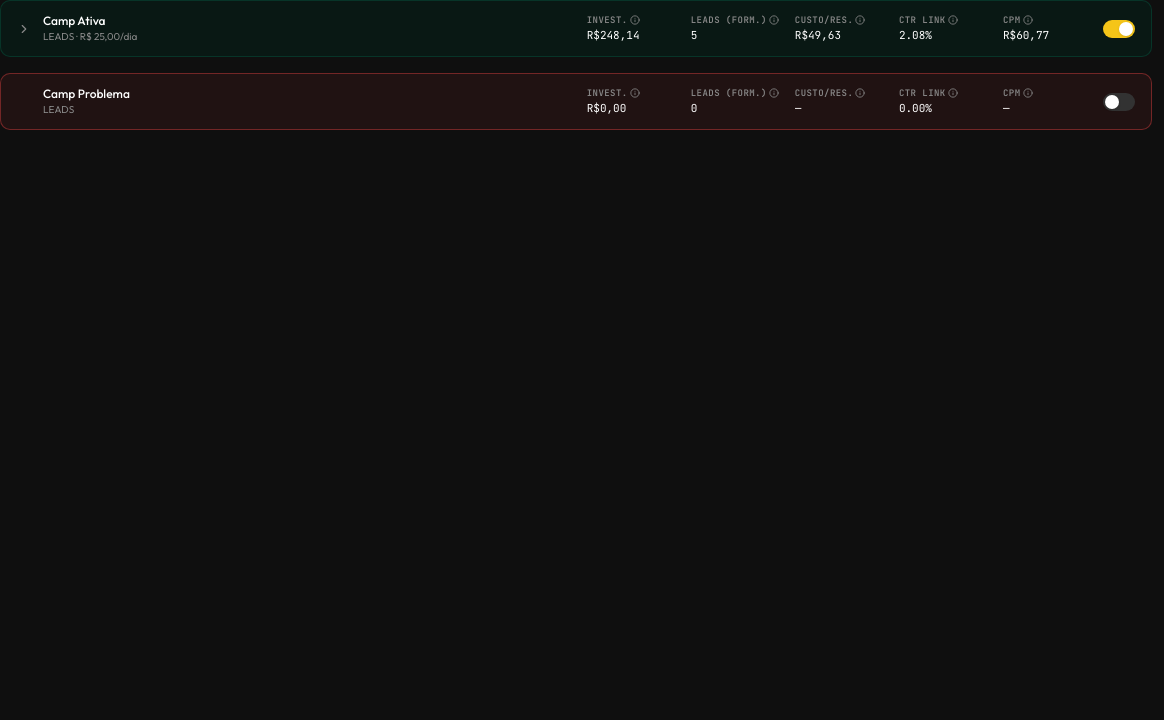
Scenario: CampaignTree › expands a campaign to reveal conjuntos and adsets
The width and height of the screenshot is (1164, 720).
Check: the text "Conjunto 1" is not shown
Click the button named "expandir Camp Ativa" at [24, 28], box [17,22,31,36]
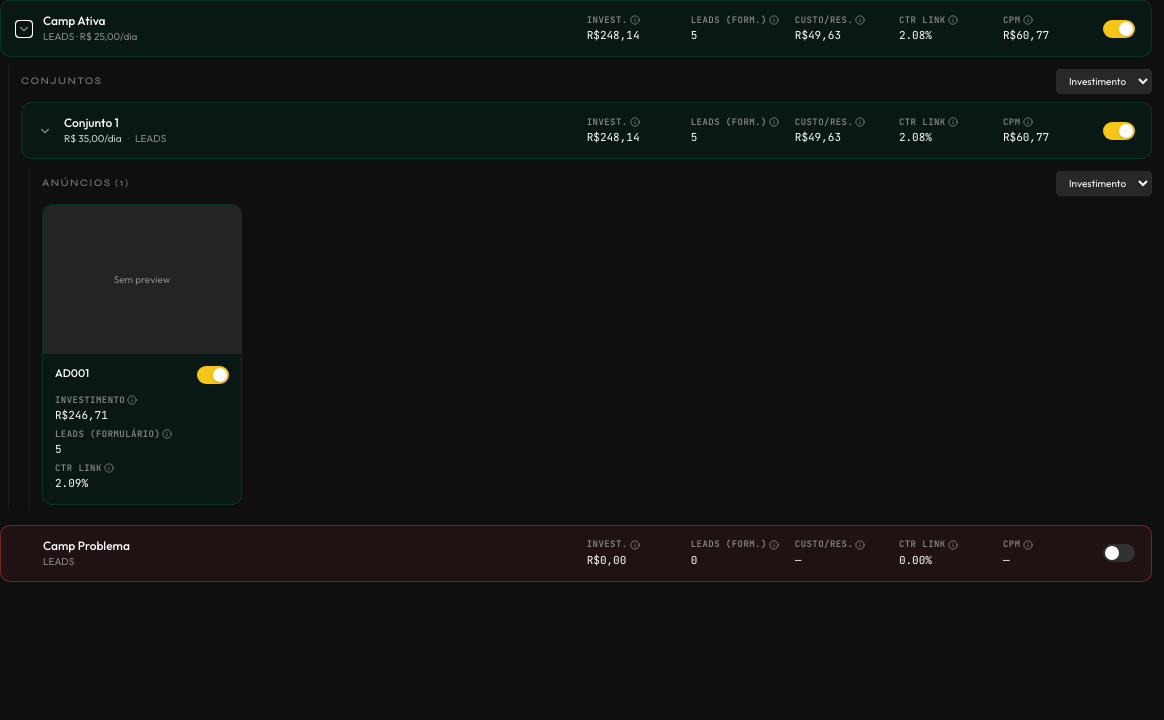
Check: the text "Conjuntos" is shown, box [21,74,102,89]
Check: the text "Conjunto 1" is shown, box [64,115,119,130]
Check: the text "Anúncios (1)" is shown, box [42,176,130,191]
